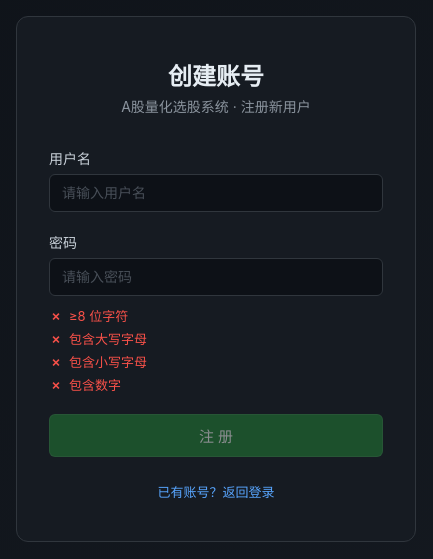
RegisterView › 密码满足所有条件时所有规则显示 ✓
The width and height of the screenshot is (433, 559).
Type "StrongPass1" into the password field with id "reg-password" at coordinates (216, 277), box [49,258,383,296]
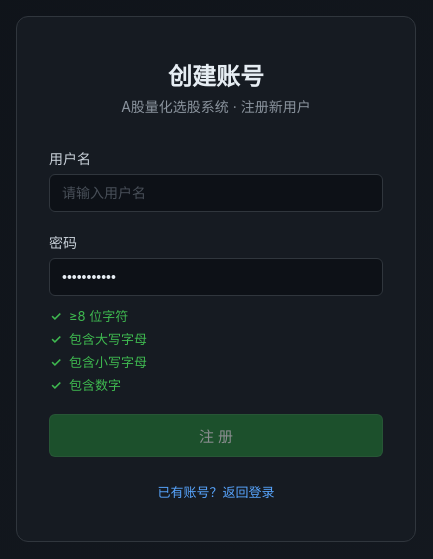
Result: the number of list items with class "rule-pass" is 4 at [50,308,128,324]; [50,330,147,347]; [50,354,147,370]; [50,376,121,393]
